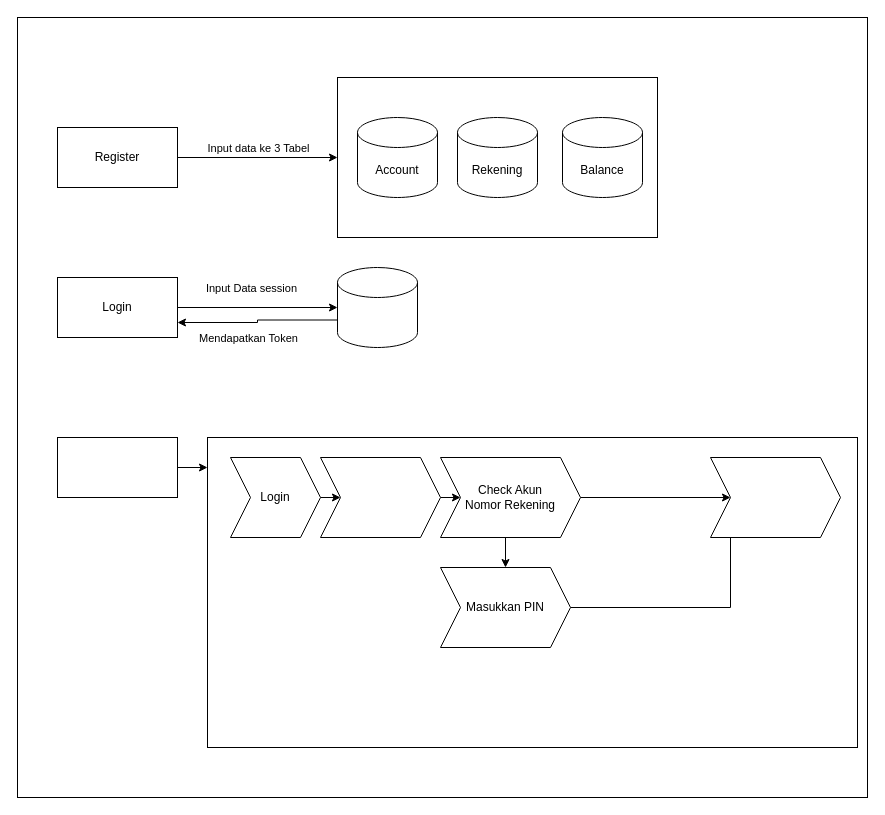
Some shapes in this 885 by 815 pixel diagram are drawn without their labels. The shapes that lost their labels are listed below. From the top down, each one's centre as x and y in pixels, then its label:
At (x=377, y=307): "Session".
At (x=117, y=467): "Transfer".
At (x=380, y=497): "Input Nomor Rekening".
At (x=775, y=497): "Kirim & Catat di Transaksi".
